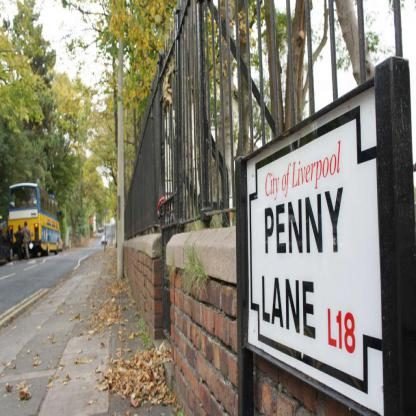Bus: (8, 182, 59, 254)
